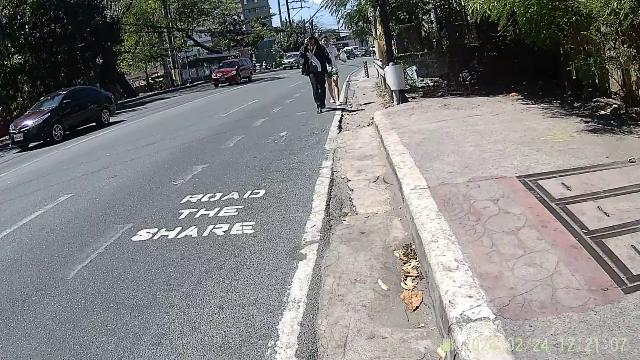tree: (378, 8, 408, 104), (336, 175, 396, 223)
